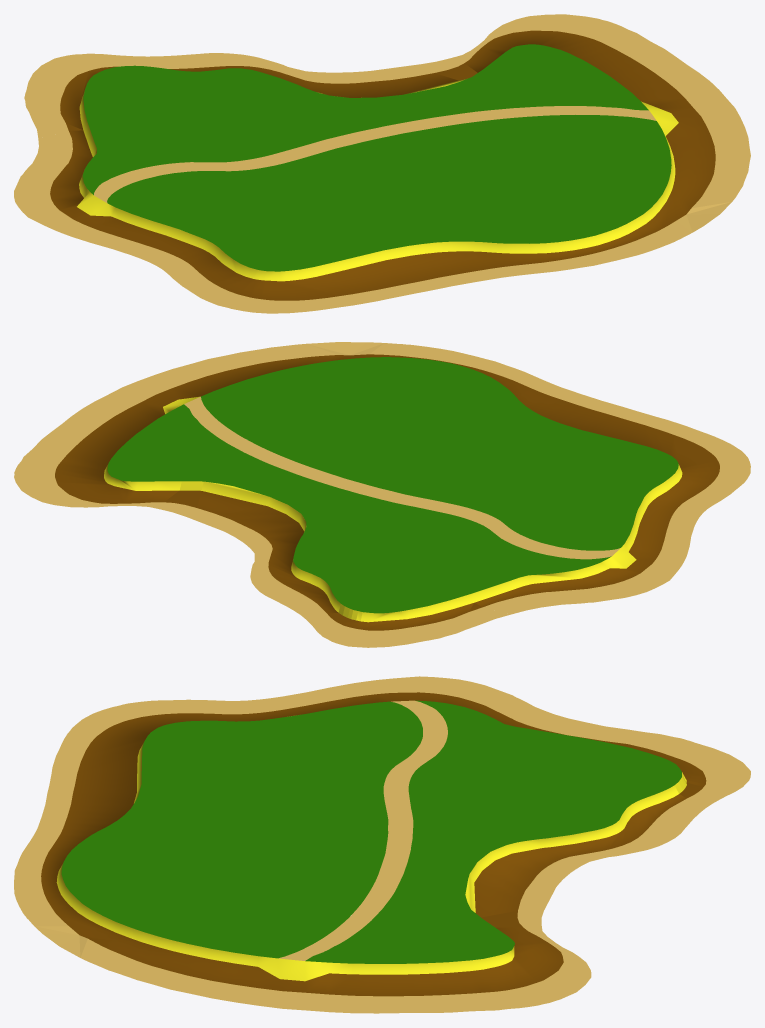
File: decor.FBX
3 renders of one model, top to bottom at view 1: azimuth 30°, elevation 25°; view 2: azimuth 150°, elevation 25°; view 3: azimuth 270°, elevation 25°, orthographic. The views are drawn at different scales.
Visible parts, largest first — view 1: Plane001; view 2: Plane001; view 3: Plane001.
Part boxes in pixels (bbox=[...]): Plane001: bbox=[14, 14, 750, 313]; Plane001: bbox=[14, 342, 750, 647]; Plane001: bbox=[14, 676, 750, 1013].
Bounding box in the file's own units: 830 × 11.44 × 767.
